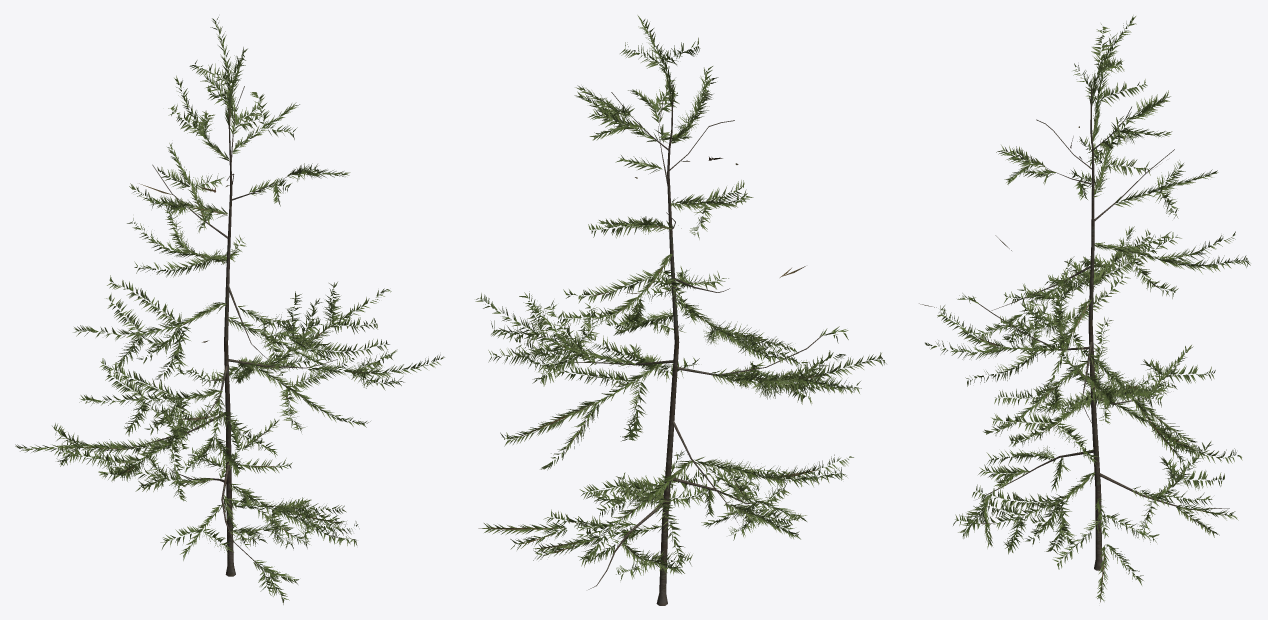
Rendered from tree_fir_mature.glb.
The picture shows the model from 3 angles, left to right: view 1: azimuth 30°, elevation 25°; view 2: azimuth 150°, elevation 25°; view 3: azimuth 270°, elevation 25°; orthographic projection. The views are drawn at different scales.
Visible parts, largest first — view 1: tree_fir_mature; view 2: tree_fir_mature; view 3: tree_fir_mature.
Boxes of the visible parts, bbox=[...] form: tree_fir_mature: bbox=[15, 17, 444, 604]; tree_fir_mature: bbox=[475, 15, 886, 605]; tree_fir_mature: bbox=[919, 15, 1250, 602].
Size of what is drawn, in the model's own units: 7.96 by 12 by 6.61.
2 materials, 2 textured.
